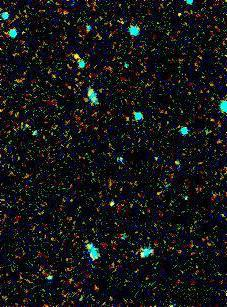star: (61, 43, 91, 73)
